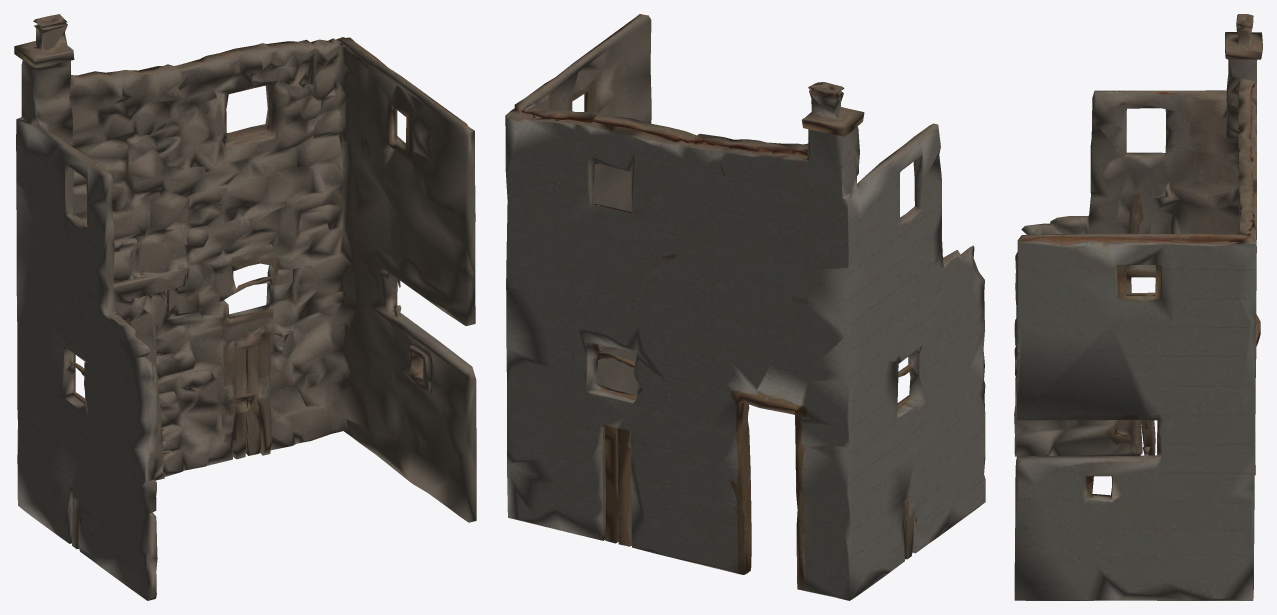
Rendered from steinbruch.glb.
3 renders of one model, left to right at view 1: azimuth 30°, elevation 25°; view 2: azimuth 150°, elevation 25°; view 3: azimuth 270°, elevation 25°, orthographic. The views are drawn at different scales.
Bounding box in the file's own units: 1.36 × 1.9 × 0.9624.
Materials: 1 (1 with a texture image).
